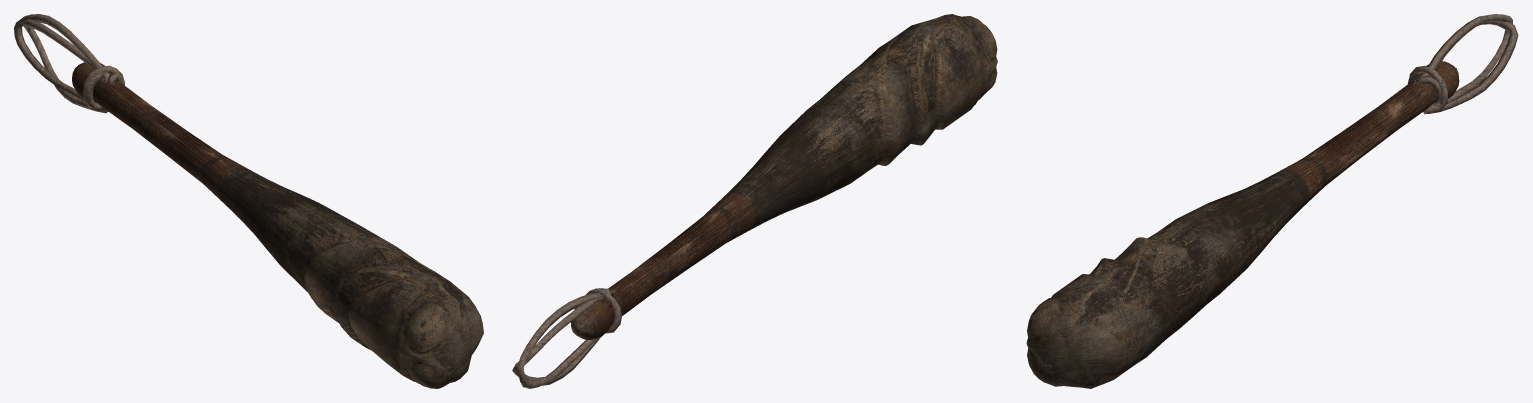
The model's file is club.fbx.
The picture shows the model from 3 angles, left to right: view 1: azimuth 30°, elevation 25°; view 2: azimuth 150°, elevation 25°; view 3: azimuth 330°, elevation 25°; orthographic projection.
Visible parts, largest first — view 1: WP_A_0800; view 2: WP_A_0800; view 3: WP_A_0800.
Part boxes in pixels (<box>): WP_A_0800: <box>14,14,483,388</box>; WP_A_0800: <box>512,14,997,388</box>; WP_A_0800: <box>1026,14,1518,388</box>.
Bounding box in the file's own units: 12.42 × 12.36 × 104.
Materials: 1 (1 with a texture image).
